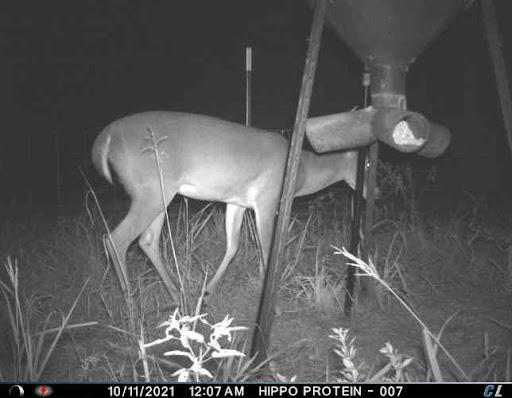Deer: (88, 98, 392, 315)
